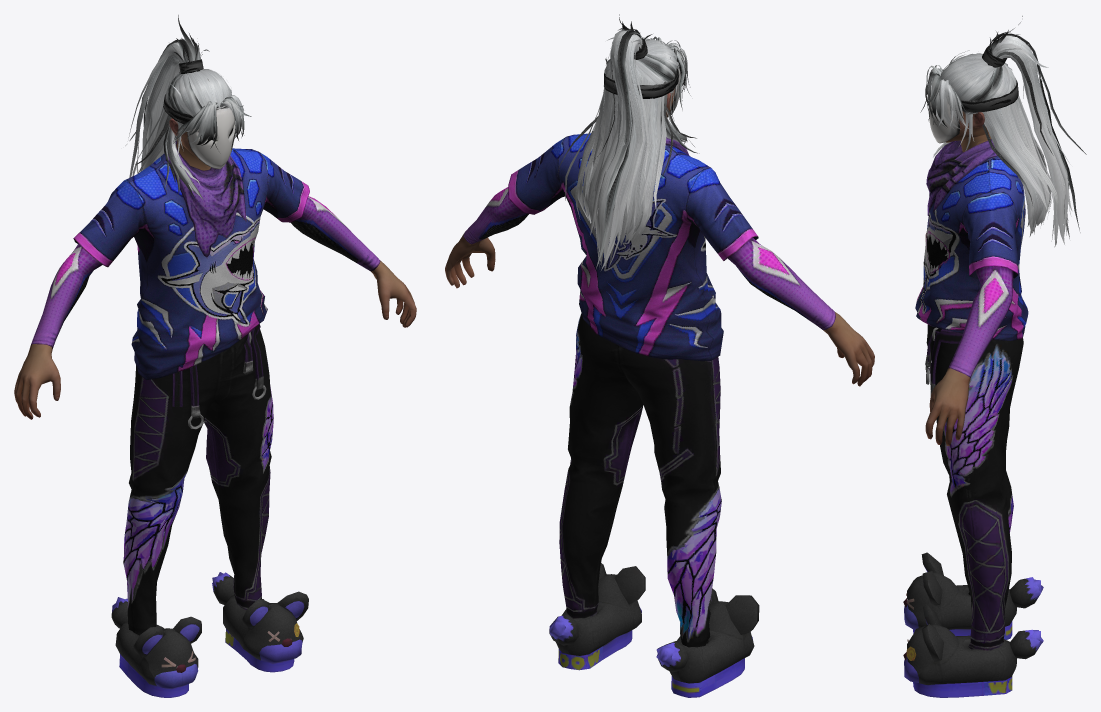
File: huyma.glb
The picture shows the model from 3 angles, left to right: view 1: azimuth 30°, elevation 25°; view 2: azimuth 150°, elevation 25°; view 3: azimuth 270°, elevation 25°; orthographic projection. The views are drawn at different scales.
Visible parts, largest first — view 1: huyma; view 2: huyma; view 3: huyma.
Part boxes in pixels (x1,y1,x2,y2): huyma: (14, 15, 416, 697); huyma: (445, 14, 874, 697); huyma: (903, 16, 1086, 697).
Bounding box in the file's own units: 0.6321 × 0.9683 × 0.2486.
8 materials, 8 textured.
